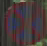No Stopping: (7, 1, 44, 42)
